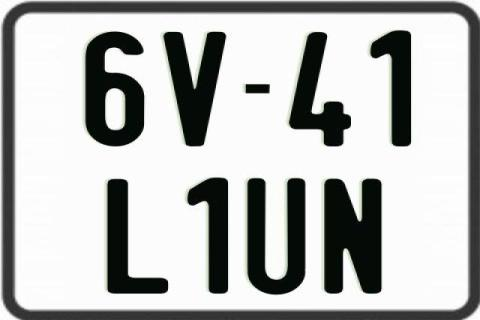0: (83, 31, 147, 146), (287, 31, 349, 149), (184, 175, 230, 295), (367, 29, 410, 149)
L: (107, 179, 168, 296)
N: (323, 178, 387, 294)
U: (247, 178, 308, 294)
V: (161, 31, 228, 148)
